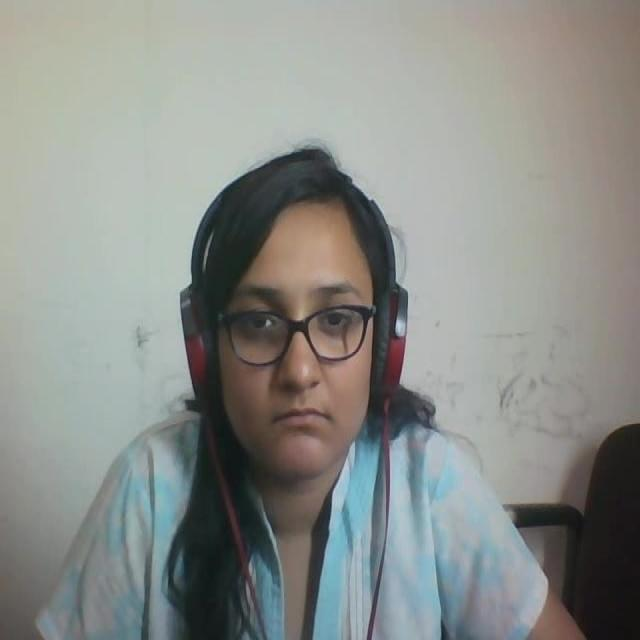Engaged: (169, 126, 421, 491)
